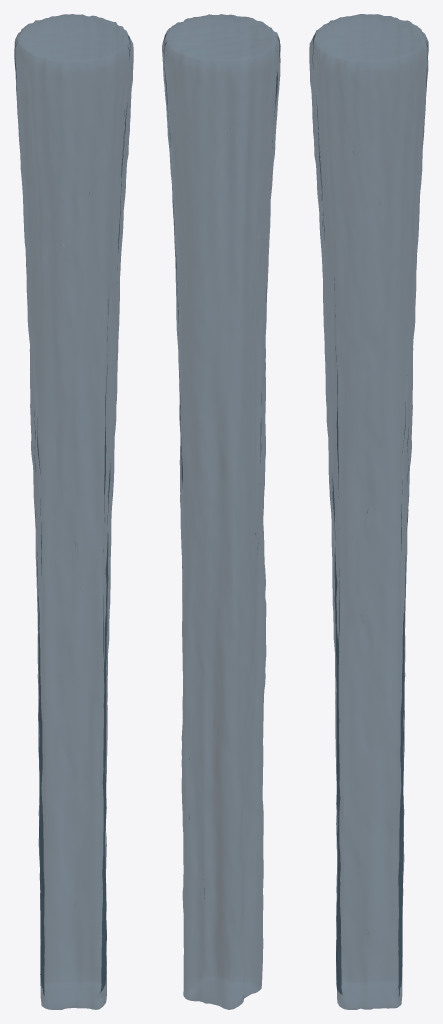
Rendered from water_3.dae.
The picture shows the model from 3 angles, left to right: view 1: azimuth 90°, elevation 25°; view 2: azimuth 150°, elevation 25°; view 3: azimuth 270°, elevation 25°; orthographic projection.
Parts seen in each view (by area): view 1: Water_stream_001; view 2: Water_stream_001; view 3: Water_stream_001.
Part boxes in pixels (x1,y1,x2,y2): Water_stream_001: (14,14,133,1009); Water_stream_001: (162,14,280,1009); Water_stream_001: (309,14,428,1009).
Bounding box in the file's own units: 0.0636 × 0.0638 × 0.5661.
